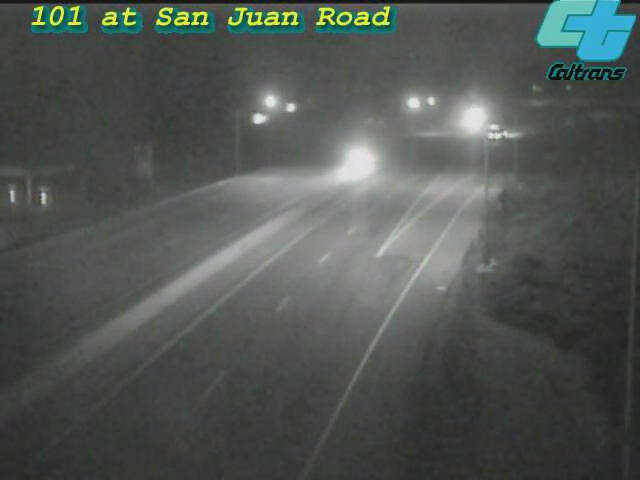vehicle: (317, 121, 397, 201), (447, 94, 497, 144), (474, 107, 524, 157)
